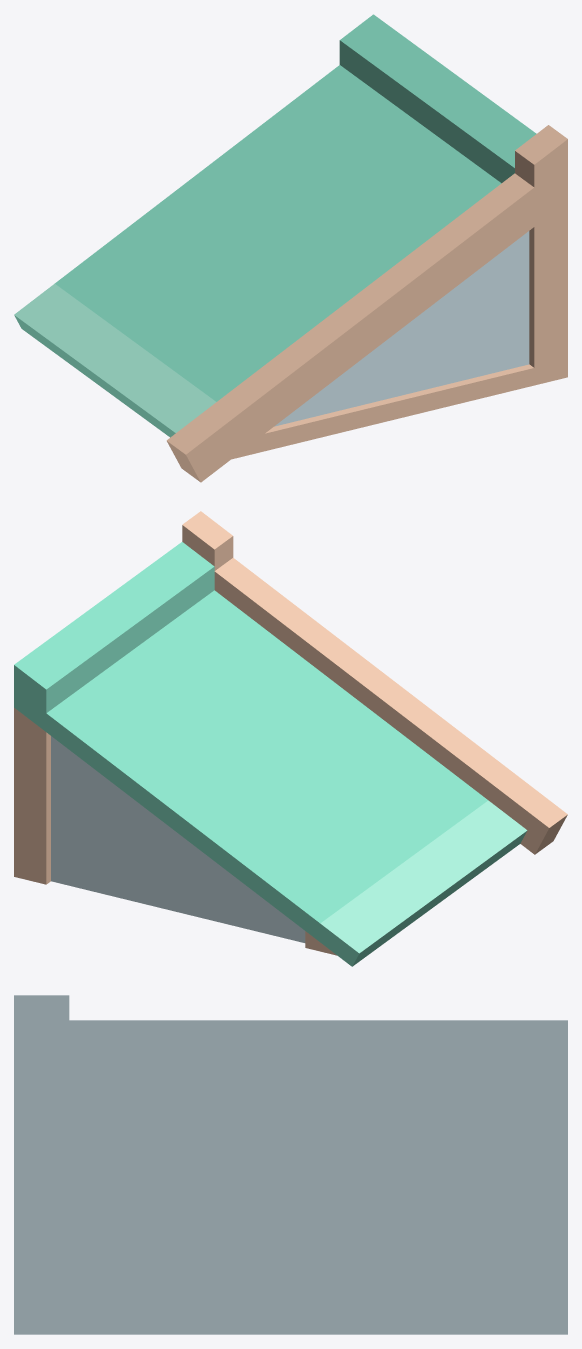
The model's file is roofRight.fbx.
The picture shows the model from 3 angles, top to bottom: view 1: azimuth 30°, elevation 25°; view 2: azimuth 150°, elevation 25°; view 3: azimuth 270°, elevation 25°; orthographic projection. The views are drawn at different scales.
Visible parts, largest first — view 1: roofRight; view 2: roofRight; view 3: roofRight.
Part boxes in pixels (x1=…): roofRight: x1=14, y1=14, x2=567, y2=482; roofRight: x1=14, y1=511, x2=567, y2=966; roofRight: x1=14, y1=995, x2=567, y2=1334.
Size of the model in its own units: 113 by 72.06 by 100.
